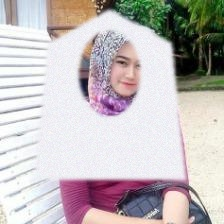Mukena: (33, 8, 185, 180)
